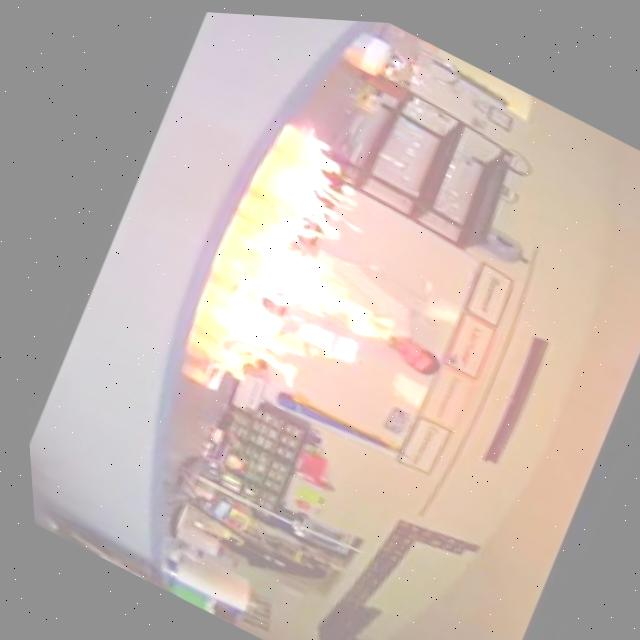Fire: (184, 105, 473, 451)
